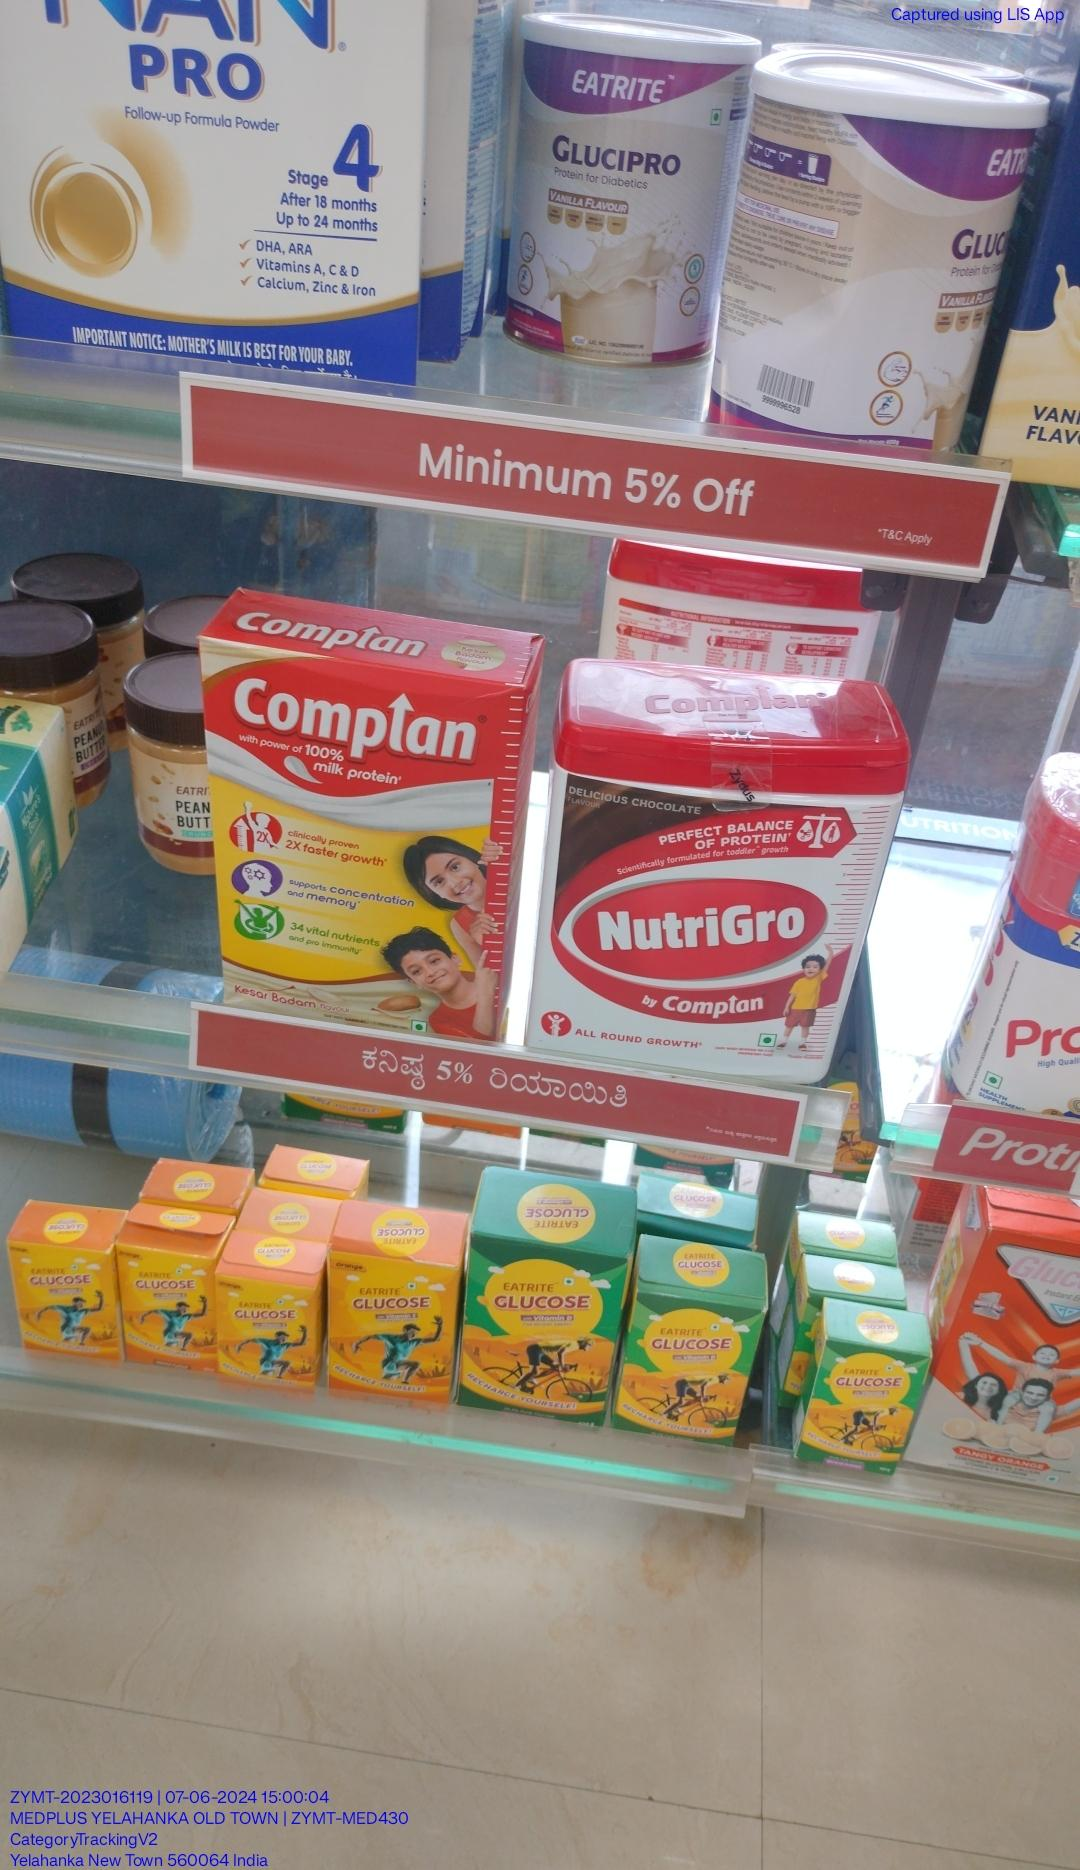COMPLAN_KESAR_BADAM_500_GMS_PACK: (207, 630, 499, 1044)
